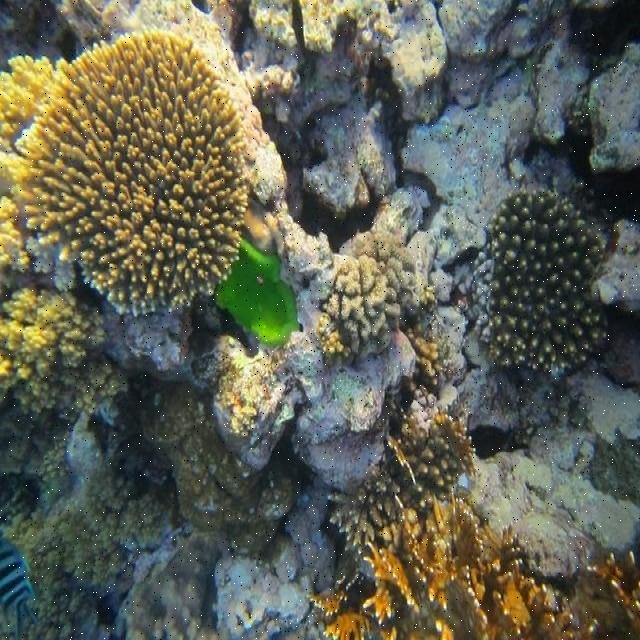aquatic plants: (214, 239, 299, 347)
reefs: (306, 234, 639, 639), (0, 30, 249, 419), (483, 189, 609, 377)
